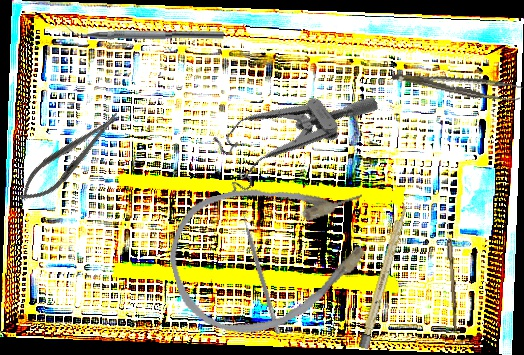Cannula: (157, 159, 389, 349)
Chopper: (61, 19, 225, 42)
Needle Holder: (11, 103, 129, 212)
Scalpel Handle: (358, 202, 410, 350)
Spatula Surgical: (238, 209, 286, 335)
Speculum: (199, 48, 381, 207)
Surgical Spoon: (443, 207, 460, 331)
Tissue Forceps: (391, 57, 523, 109)
